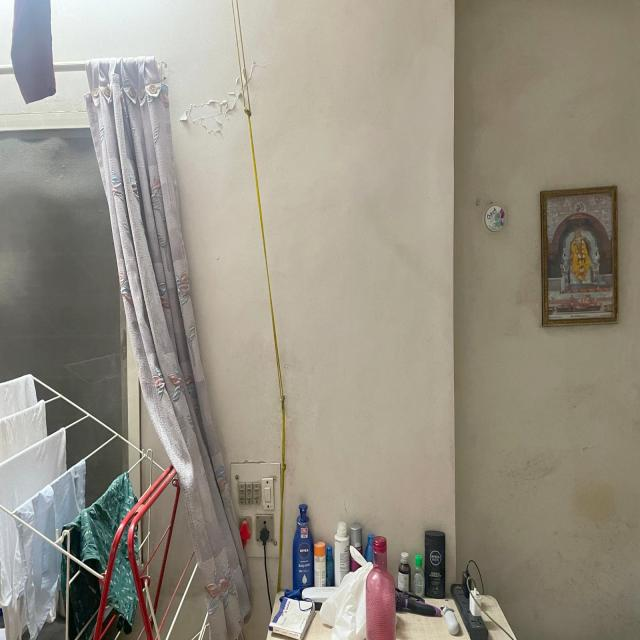Non_Damaged: (14, 4, 639, 624)
